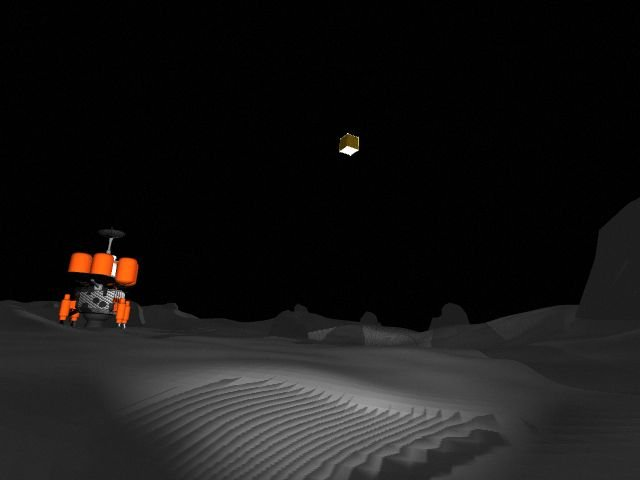homebase: (55, 225, 142, 333)
